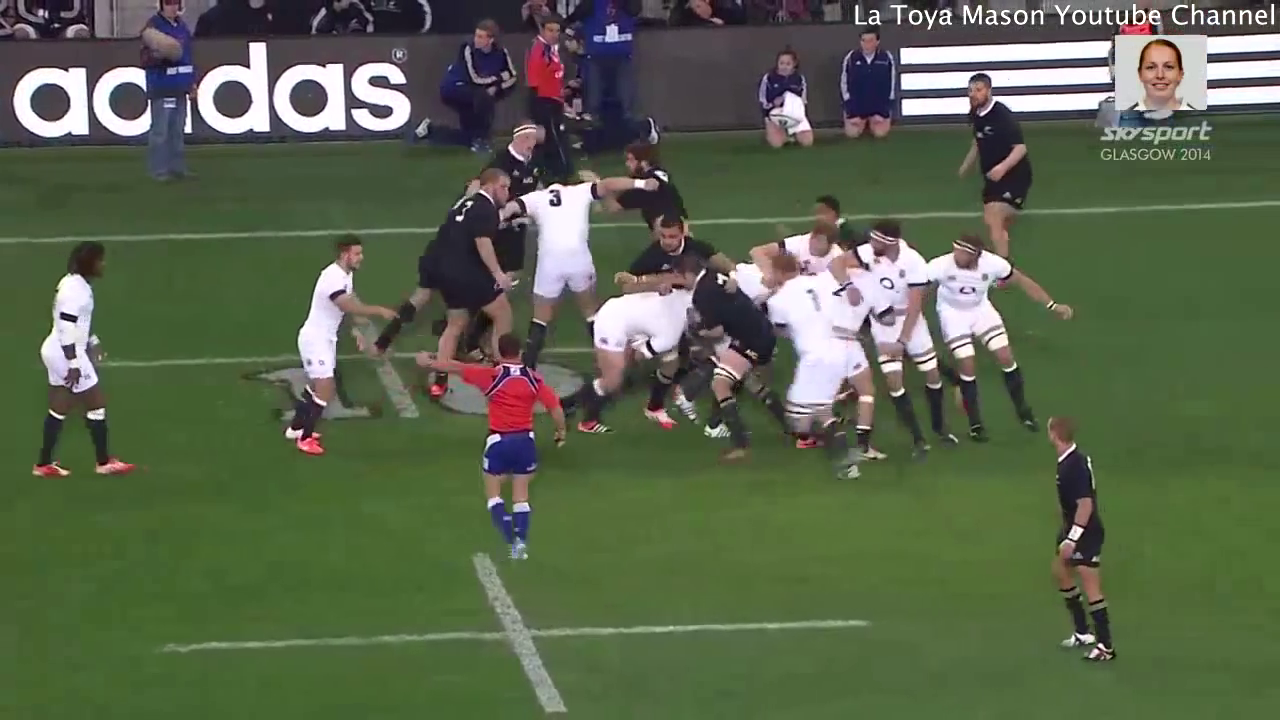10_metre: (151, 542, 891, 719), (73, 289, 685, 433)
player: (432, 319, 581, 573), (483, 157, 653, 372), (911, 232, 1081, 445), (22, 233, 149, 492), (827, 219, 963, 459), (1018, 402, 1137, 672), (415, 161, 537, 417), (276, 224, 406, 464), (662, 244, 786, 468), (945, 69, 1051, 298), (761, 252, 861, 472), (576, 272, 705, 436), (585, 132, 705, 266), (753, 210, 871, 278), (476, 113, 563, 201)
